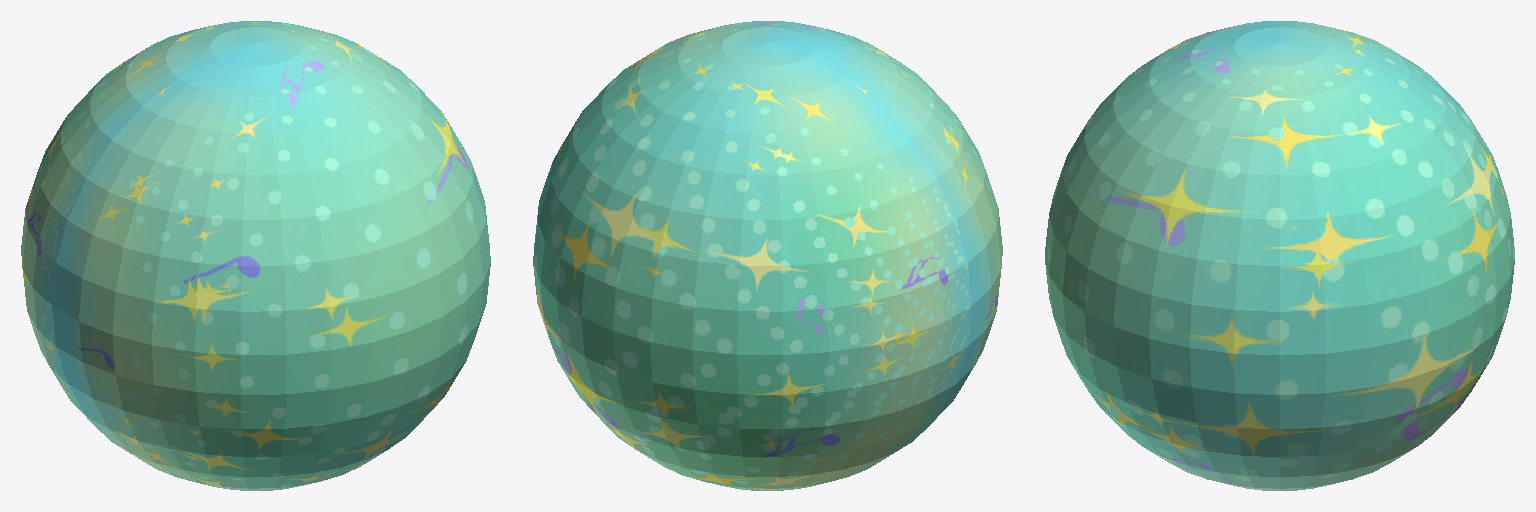
The picture shows the model from 3 angles: view 1: azimuth 30°, elevation 25°; view 2: azimuth 150°, elevation 25°; view 3: azimuth 270°, elevation 25°; orthographic projection.
Visible parts, largest first — view 1: shineBall; view 2: shineBall; view 3: shineBall.
Boxes of the visible parts, <box> form: shineBall: <box>21,21,490,490</box>; shineBall: <box>533,21,1002,490</box>; shineBall: <box>1045,21,1514,490</box>.
Size of the model in its own units: 2 by 2 by 2.
1 materials, 1 textured.